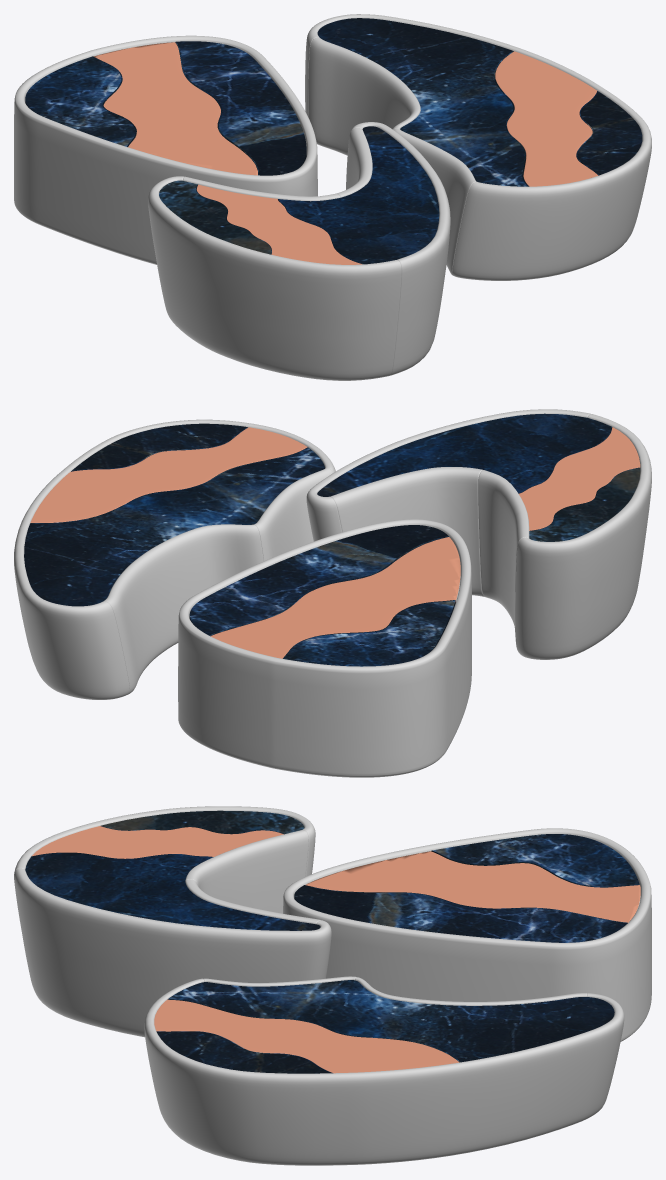
The model's file is SLN_ISLAND_IN_THE_STREAM.glb.
3 views of the same model, one above another, from view 1: azimuth 30°, elevation 25°; view 2: azimuth 150°, elevation 25°; view 3: azimuth 270°, elevation 25° (orthographic). The views are drawn at different scales.
Visible parts, largest first — view 1: ISLAND IN THE STREAM; view 2: ISLAND IN THE STREAM; view 3: ISLAND IN THE STREAM.
Part boxes in pixels (left/top/right/bottom): ISLAND IN THE STREAM: left=14, top=14, right=651, bottom=380; ISLAND IN THE STREAM: left=14, top=409, right=651, bottom=777; ISLAND IN THE STREAM: left=14, top=806, right=651, bottom=1165.
Bounding box in the file's own units: 1.66 × 0.3972 × 1.83.
Materials: 3 (1 with a texture image).
